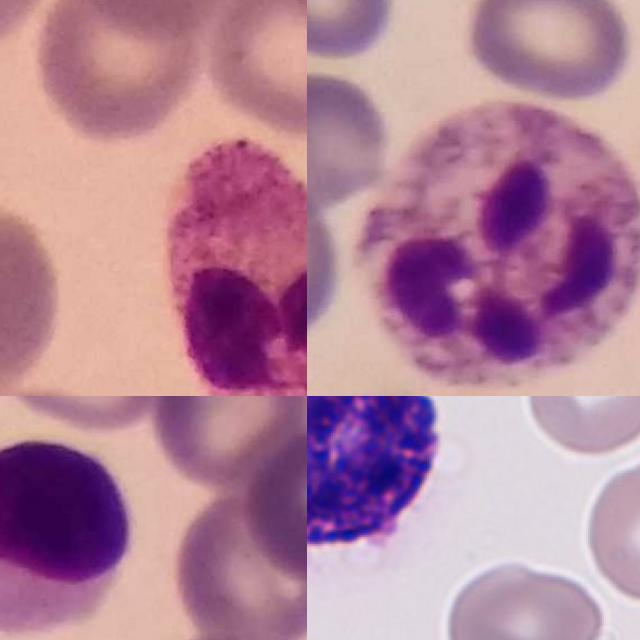Basophil: (307, 396, 464, 598)
Lymphocyte: (0, 441, 132, 635)
Neutrophil: (361, 99, 640, 391), (168, 140, 307, 396)
RBC: (437, 554, 610, 640), (579, 448, 640, 610), (516, 396, 640, 461)
